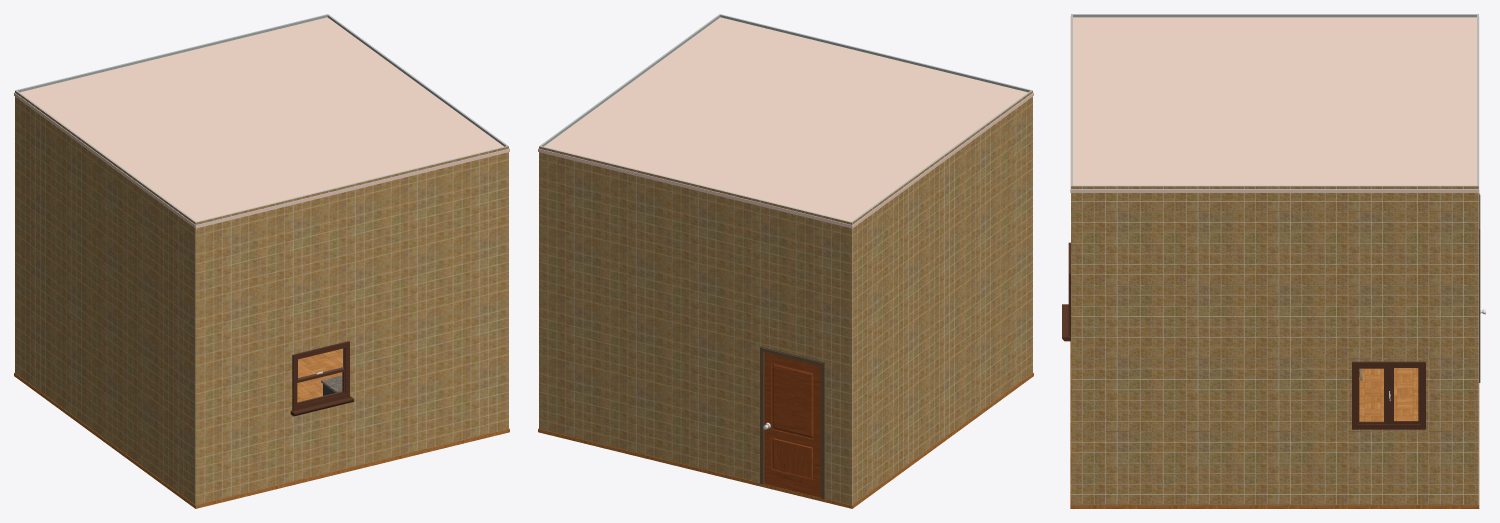
The model's file is ProcTHOR-Train-53.glb.
The picture shows the model from 3 angles, left to right: view 1: azimuth 30°, elevation 25°; view 2: azimuth 150°, elevation 25°; view 3: azimuth 270°, elevation 25°; orthographic projection. The views are drawn at different scales.
Parts seen in each view (by area): view 1: WallInside#wall|exterior|0.00|5.02|5.02|5.02, Ceiling#room|2|c, WallInside#wall|exterior|5.02|0.00|5.02|5.02, Floor#room|2|f, Window_Hung_36x32, WallInside#wall|2|0.00|0.00|5.02|0.00, WallInside#wall|2|0.00|0.00|0.00|5.02; view 2: WallInside#wall|exterior|0.00|0.00|5.02|0.00, Ceiling#room|2|c, WallInside#wall|exterior|5.02|0.00|5.02|5.02, Doorway_4, Floor#room|2|f, WallInside#wall|2|0.00|5.02|5.02|5.02, WallInside#wall|2|0.00|0.00|0.00|5.02; view 3: WallInside#wall|exterior|0.00|0.00|0.00|5.02, Ceiling#room|2|c, Floor#room|2|f, Window_Slider_36x36, WallInside#wall|2|5.02|0.00|5.02|5.02, Window_Hung_36x32, WallInside#wall|exterior|0.00|0.00|5.02|0.00.
Part boxes in pixels (bbox=[...]): WallInside#wall|exterior|0.00|5.02|5.02|5.02: bbox=[196, 146, 508, 505]; Ceiling#room|2|c: bbox=[14, 17, 509, 228]; WallInside#wall|exterior|5.02|0.00|5.02|5.02: bbox=[15, 90, 195, 505]; Floor#room|2|f: bbox=[14, 348, 509, 508]; Window_Hung_36x32: bbox=[290, 341, 354, 416]; WallInside#wall|2|0.00|0.00|5.02|0.00: bbox=[16, 14, 328, 92]; WallInside#wall|2|0.00|0.00|0.00|5.02: bbox=[327, 14, 506, 146]; WallInside#wall|exterior|0.00|0.00|5.02|0.00: bbox=[539, 146, 851, 505]; Ceiling#room|2|c: bbox=[538, 17, 1033, 228]; WallInside#wall|exterior|5.02|0.00|5.02|5.02: bbox=[852, 90, 1032, 505]; Doorway_4: bbox=[760, 346, 824, 498]; Floor#room|2|f: bbox=[538, 373, 1033, 508]; WallInside#wall|2|0.00|5.02|5.02|5.02: bbox=[719, 14, 1031, 92]; WallInside#wall|2|0.00|0.00|0.00|5.02: bbox=[540, 14, 720, 146]; WallInside#wall|exterior|0.00|0.00|0.00|5.02: bbox=[1071, 186, 1478, 504]; Ceiling#room|2|c: bbox=[1070, 16, 1479, 192]; Floor#room|2|f: bbox=[1070, 341, 1479, 508]; Window_Slider_36x36: bbox=[1352, 361, 1425, 429]; WallInside#wall|2|5.02|0.00|5.02|5.02: bbox=[1071, 14, 1478, 17]; Window_Hung_36x32: bbox=[1062, 242, 1070, 341]; WallInside#wall|exterior|0.00|0.00|5.02|0.00: bbox=[1478, 14, 1478, 504].
Size of what is drawn, in the model's own units: 5.08 by 4.4 by 5.24.
105 materials, 54 textured.
